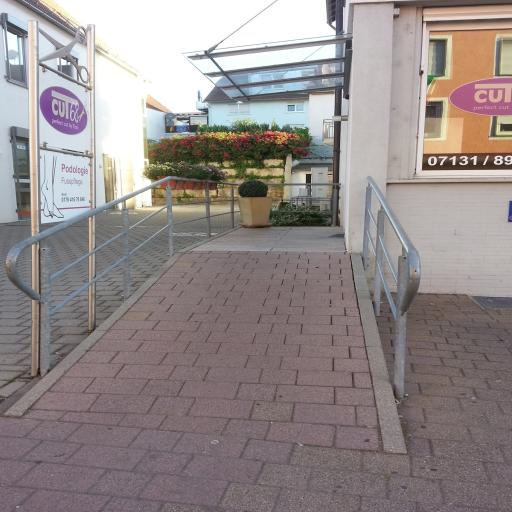ramp: (11, 248, 405, 455)
